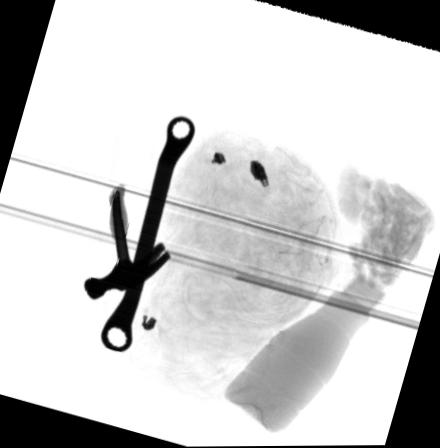Hammer: (85, 183, 173, 298)
Wrench: (100, 116, 197, 353)
